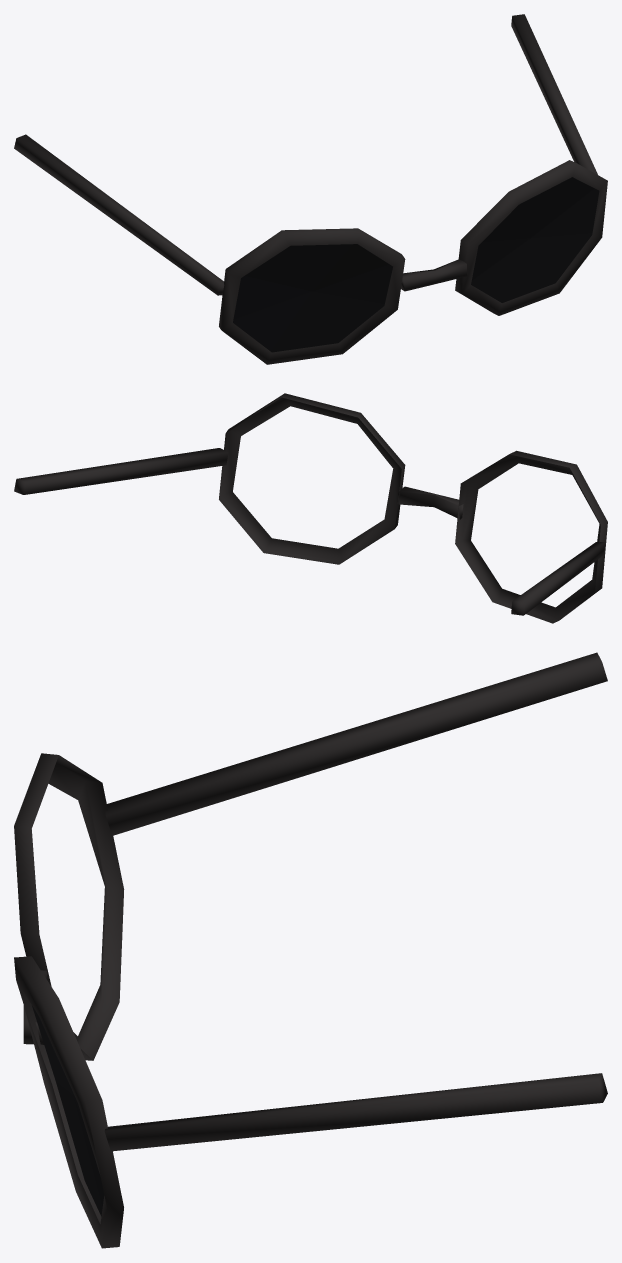
The model's file is sunglasses.glb.
3 renders of one model, top to bottom at view 1: azimuth 30°, elevation 25°; view 2: azimuth 150°, elevation 25°; view 3: azimuth 270°, elevation 25°, orthographic. The views are drawn at different scales.
Parts seen in each view (by area): view 1: Sunglasses; view 2: Sunglasses; view 3: Sunglasses.
Part boxes in pixels (<box>): Sunglasses: <box>14,14,607,364</box>; Sunglasses: <box>14,393,607,623</box>; Sunglasses: <box>14,652,607,1248</box>.
Size of the model in its own units: 8.7 by 2.43 by 5.07.
Materials: 1 (1 with a texture image).
